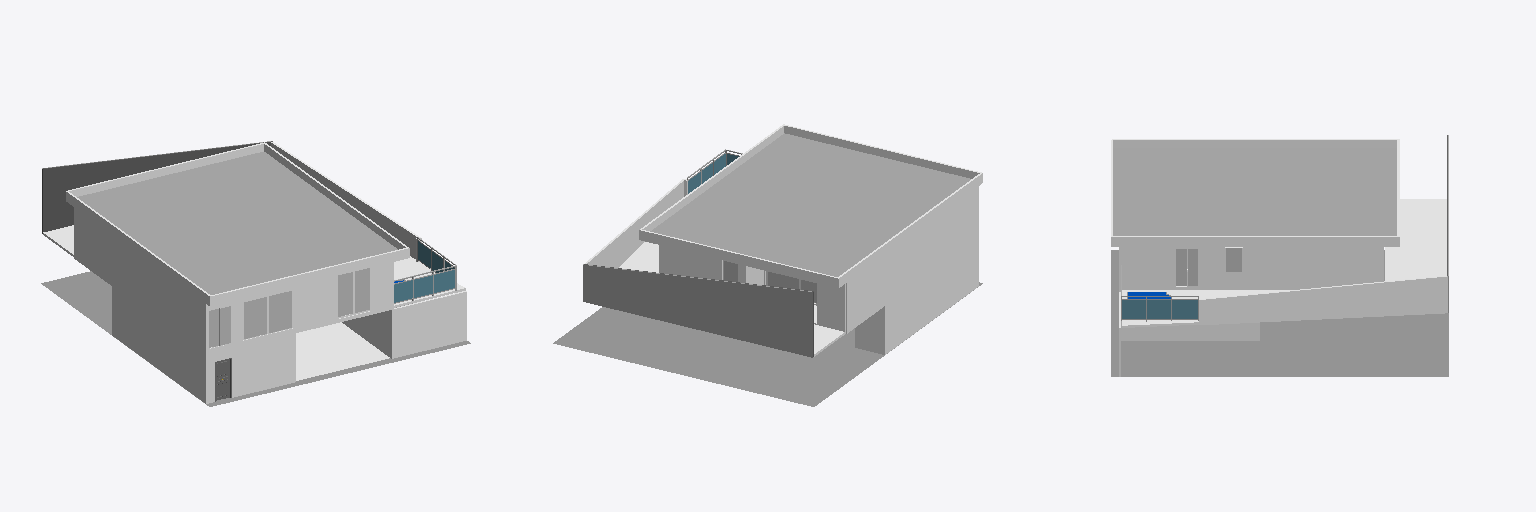
File: layout12.obj
3 views of the same model, side by side, from view 1: azimuth 30°, elevation 25°; view 2: azimuth 150°, elevation 25°; view 3: azimuth 270°, elevation 25° (orthographic).
Visible parts, largest first — view 1: room_95_473, wall_1_4, wall_68_407, ground_1, room_94_471, wall_47_281, wall_65_389, wall_35_208, wall_18_107, wall_69_413, wall_34_202, wall_43_256 (+17 smaller); view 2: room_95_473, ground_1, wall_1_5, wall_47_281, wall_35_208, wall_71_425, wall_43_256, wall_34_202, wall_69_412, wall_72_431, wall_12_70, room_81_446 (+8 smaller); view 3: room_95_473, ground_1, wall_43_257, room_81_446, wall_13_76, wall_70_419, wall_41_244, wall_72_430, wall_67_400, wall_39_232, wall_27_160.
Part boxes in pixels (x1,y1,x2,y2): room_95_473: (77, 152, 397, 294); wall_1_4: (42, 142, 270, 233); wall_68_407: (392, 292, 466, 358); ground_1: (41, 271, 470, 406); room_94_471: (296, 322, 389, 380); wall_47_281: (135, 304, 191, 393); wall_65_389: (240, 333, 295, 395); wall_35_208: (123, 243, 172, 330); wall_18_107: (312, 262, 393, 328); wall_69_413: (211, 248, 409, 305); wall_34_202: (173, 280, 205, 354); wall_43_256: (271, 143, 416, 258); room_95_473: (650, 133, 970, 276); ground_1: (553, 282, 982, 406); wall_1_5: (583, 265, 812, 357); wall_47_281: (908, 248, 964, 337); wall_35_208: (896, 210, 945, 297); wall_71_425: (639, 230, 838, 288); wall_43_256: (587, 181, 683, 267); wall_34_202: (946, 186, 978, 260); wall_69_412: (784, 126, 979, 178); wall_72_431: (839, 173, 982, 287); wall_12_70: (659, 245, 716, 279); room_81_446: (619, 242, 844, 356); room_95_473: (1113, 148, 1396, 235); ground_1: (1111, 250, 1448, 376); wall_43_257: (1199, 276, 1447, 324); room_81_446: (1122, 199, 1446, 327); wall_13_76: (1298, 247, 1383, 289); wall_70_419: (1111, 237, 1399, 246); wall_41_244: (1121, 247, 1203, 289); wall_72_430: (1113, 140, 1396, 147); wall_67_400: (1121, 321, 1259, 340); wall_39_232: (1202, 247, 1258, 289); wall_27_160: (1271, 247, 1297, 289).
Size of the model in its own units: 1422 by 597 by 1594.